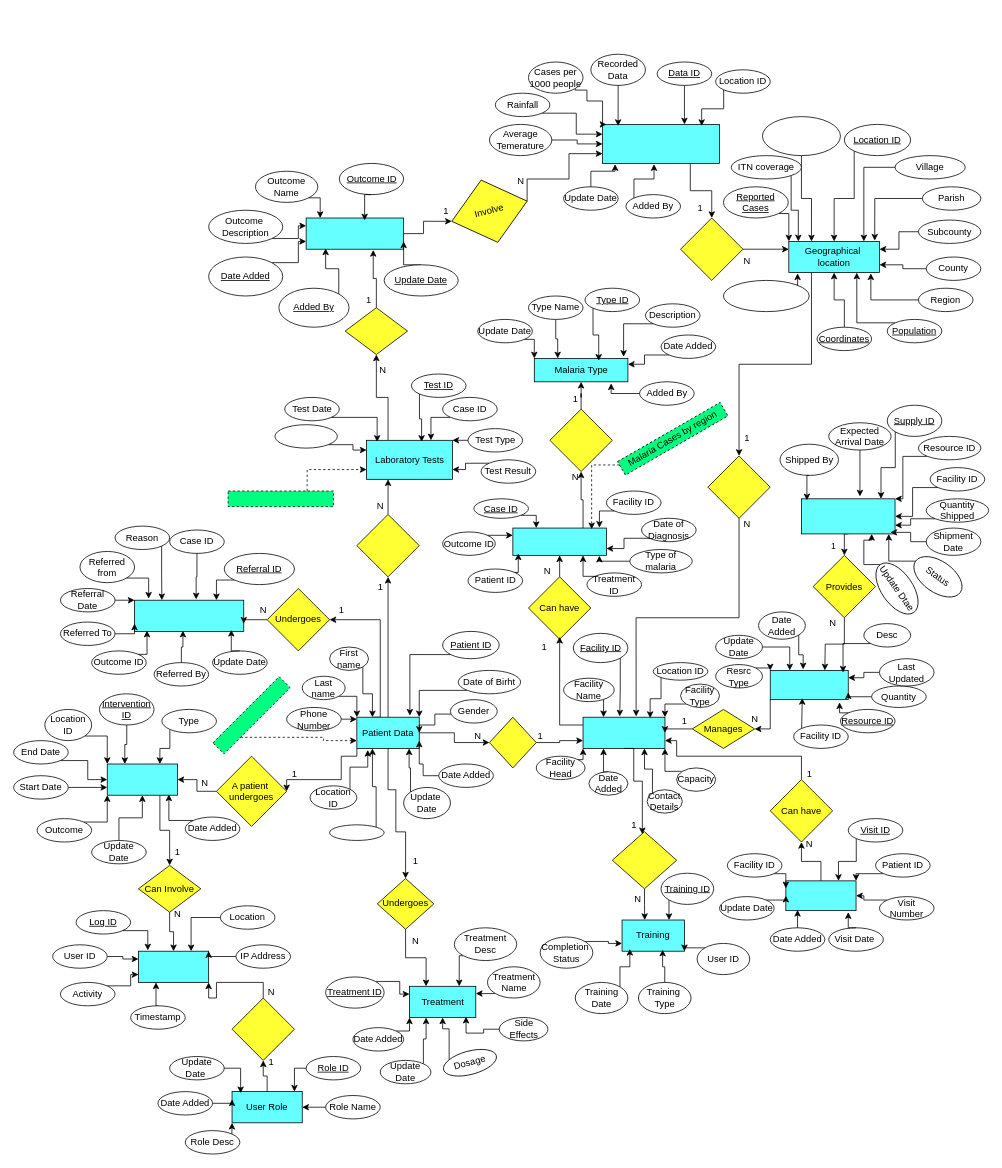
The diagram is 1002 pixels wide and 1168 high, and some of its shapes have lost their labels. Each missing label, with the centre of its shape:
Access: the point at 512,742
Can belong To: the point at 580,440
Can Hame: the point at 644,860
Epidemiological Data: the point at 661,143
Have: the point at 738,486
Health Facilities Count: the point at 801,136
Health Facility: the point at 623,732
Interventions: the point at 141,779
Involves: the point at 262,1028
Laboratory Tests view: the point at 280,498
Malaria Cases: the point at 559,541
Malaria Risk Level: the point at 766,296
Next of Kin: the point at 356,832
Patient view: the point at 251,715
Referral: the point at 189,615
Resource: the point at 808,685
Result: the point at 376,331
Supply Chain: the point at 848,516
System Log: the point at 173,966
Technician ID: the point at 305,436
Tracked: the point at 711,248
Treatment Outcomes: the point at 354,233
Ubdergoes: the point at 387,545
Visit Records: the point at 820,895
